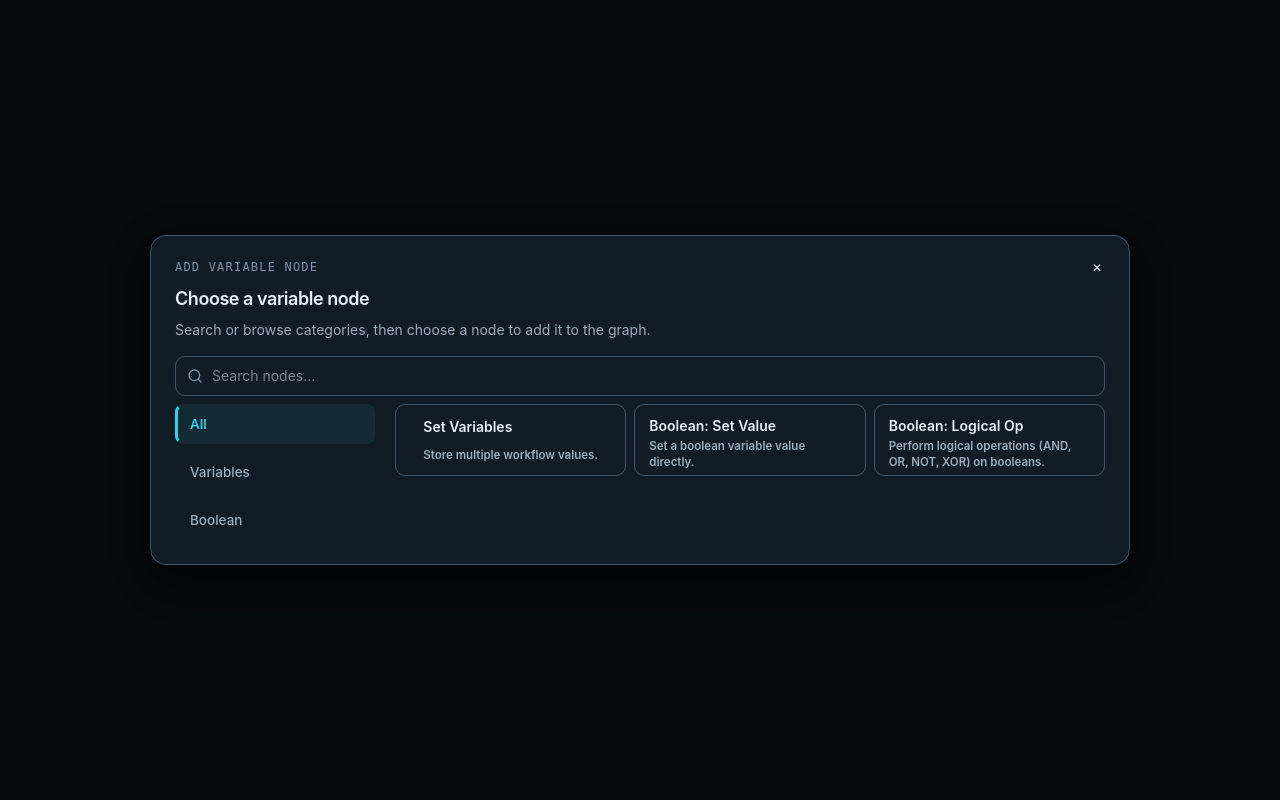
Test: GraphNodePalette › groups categories with colons and displays subcategories as segmented control
Expected: the button "Variables" is shown, [175,452,375,492]
Click "Boolean" category
Click the button "Boolean": (275,520) [175,500,375,540]
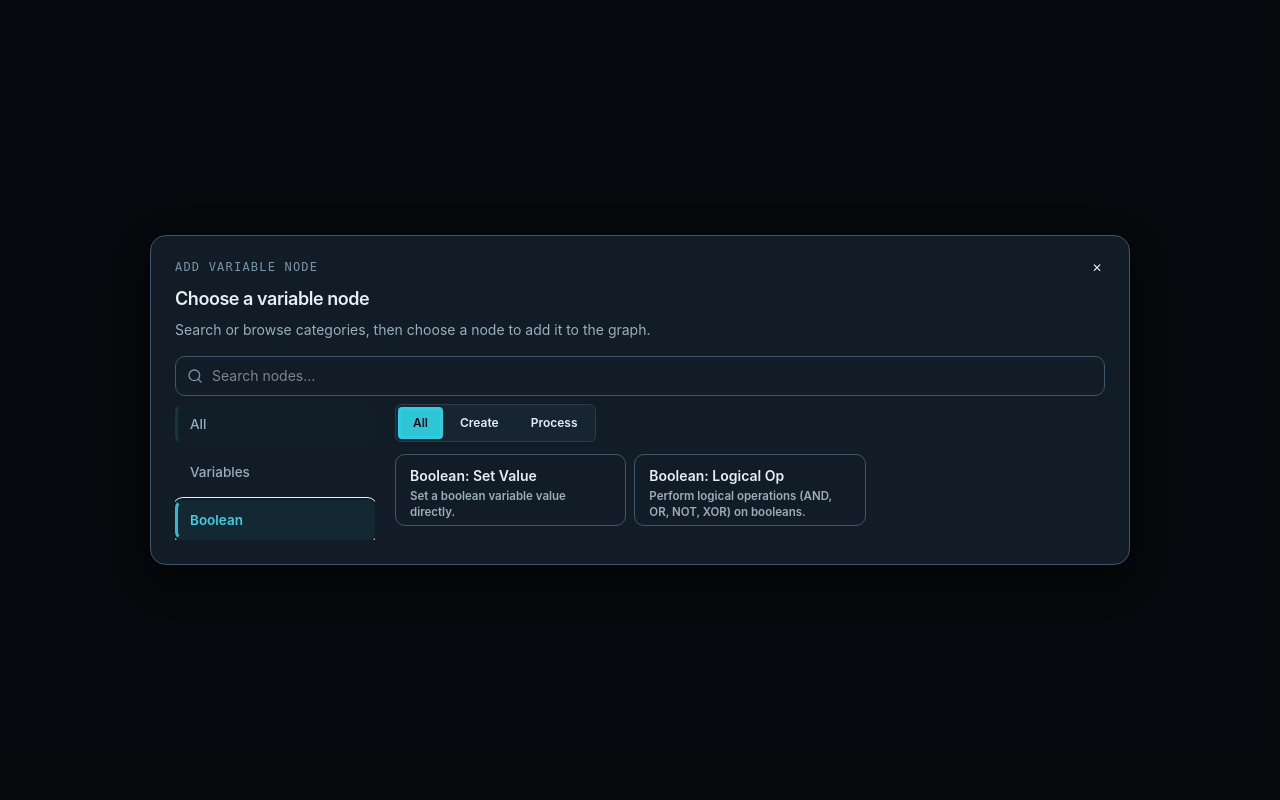
Expected: the element named "Subcategories" is shown, [395,404,596,442]
Expected: the 2nd button "All" is shown, [398,407,443,439]
Expected: the button "Create" is shown
Click "Create" subcategory
Click the button "Create": (479,423) [445,407,514,439]
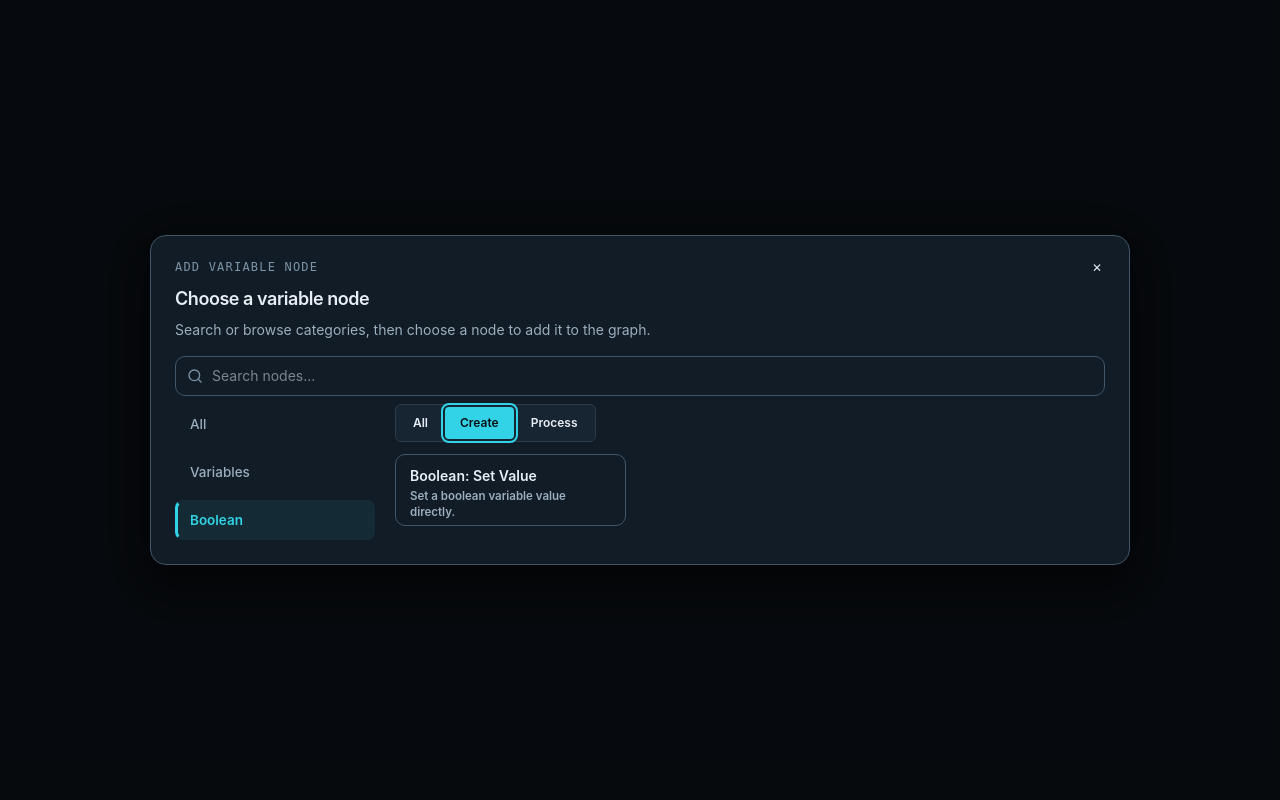
Expected: the text "Boolean: Set Value" is shown, [410,466,537,486]
Expected: the button "Boolean: Logical Op" is gone
